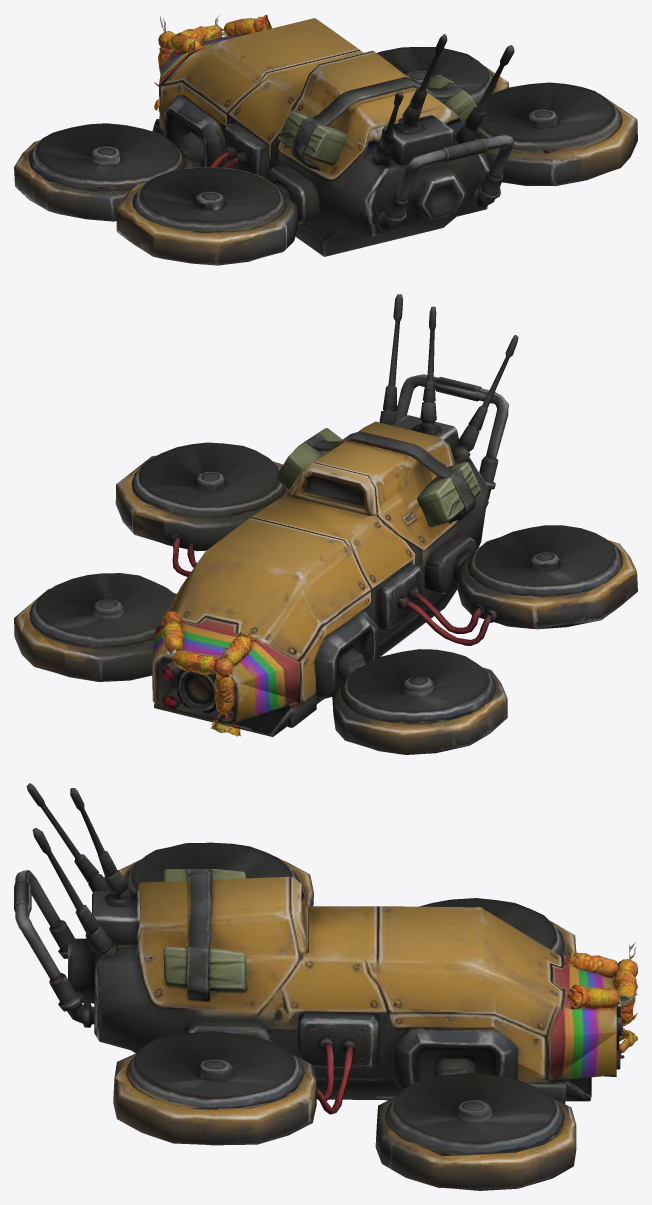
The model's file is flh7.glb.
3 renders of one model, top to bottom at view 1: azimuth 30°, elevation 25°; view 2: azimuth 150°, elevation 25°; view 3: azimuth 270°, elevation 25°, orthographic. The views are drawn at different scales.
Visible parts, largest first — view 1: Body, Trim; view 2: Body, Trim; view 3: Body, Trim.
Part boxes in pixels (x1,y1,x2,y2): Body: (14, 14, 637, 265); Trim: (14, 16, 629, 243); Body: (14, 294, 637, 754); Trim: (14, 421, 636, 736); Body: (14, 783, 637, 1190); Trim: (115, 859, 637, 1164).
Size of the model in its own units: 1.61 by 0.7897 by 1.57.
Materials: 2 (2 with a texture image).
